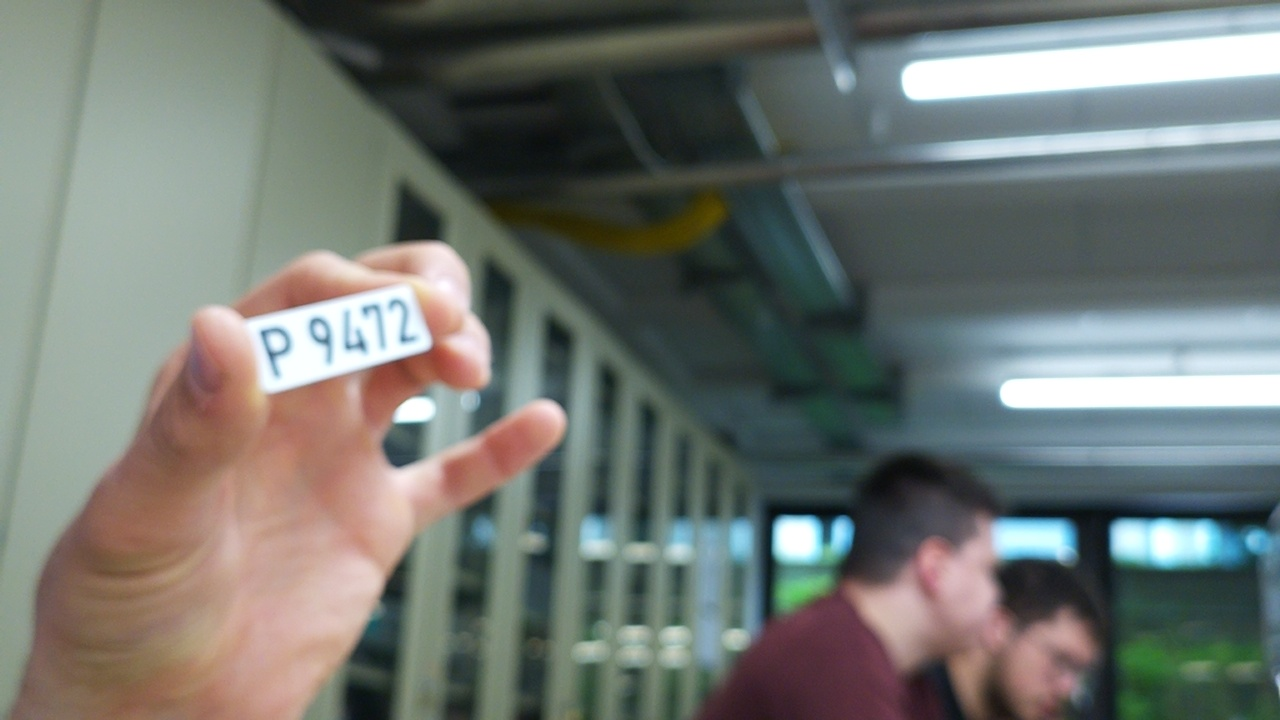license_plate: (234, 280, 439, 398)
